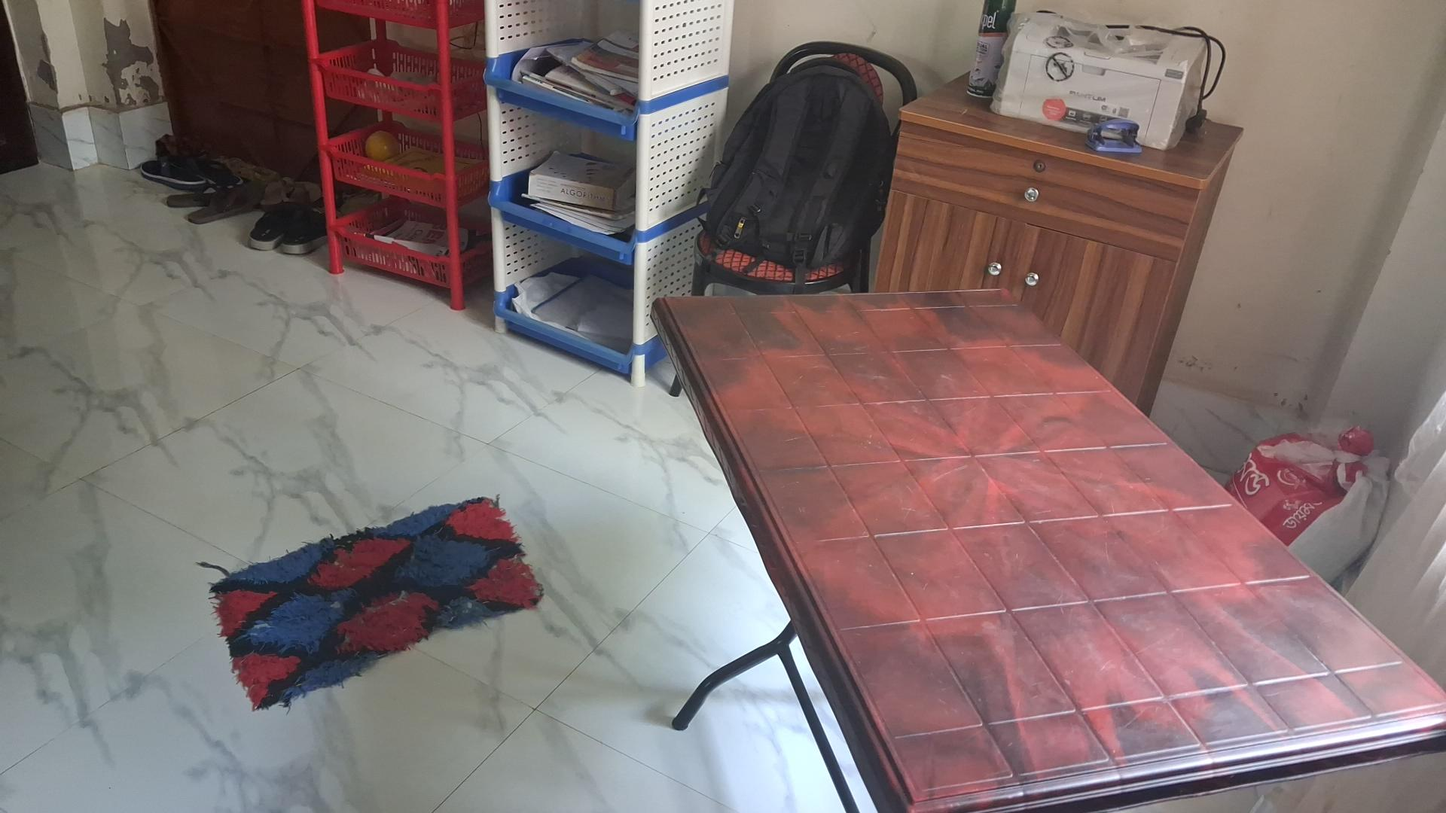Bag: (704, 62, 883, 271), (1242, 433, 1409, 568)
Book: (524, 152, 642, 212)
Floor Mat: (211, 495, 548, 706)
Footwear: (248, 195, 332, 265), (138, 137, 232, 192)
Rack: (480, 0, 750, 386), (298, 2, 516, 312)
Table: (649, 281, 1446, 813)
